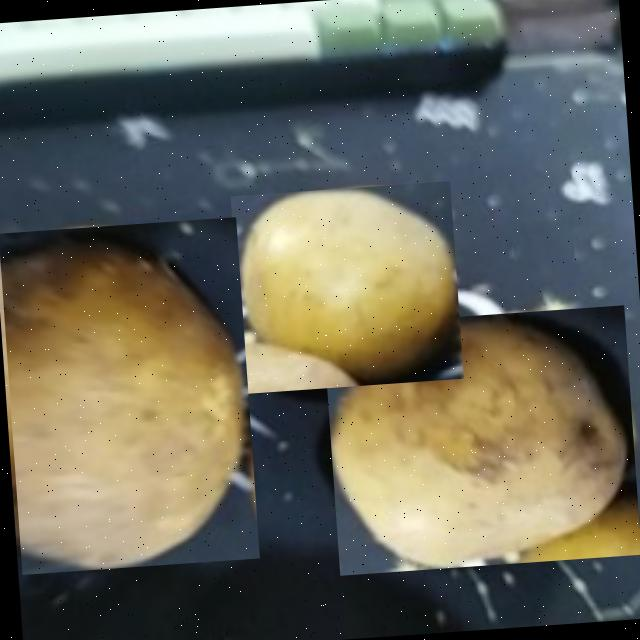Damaged potato: (0, 215, 258, 573), (321, 304, 640, 574)
Potato: (228, 180, 462, 392)
